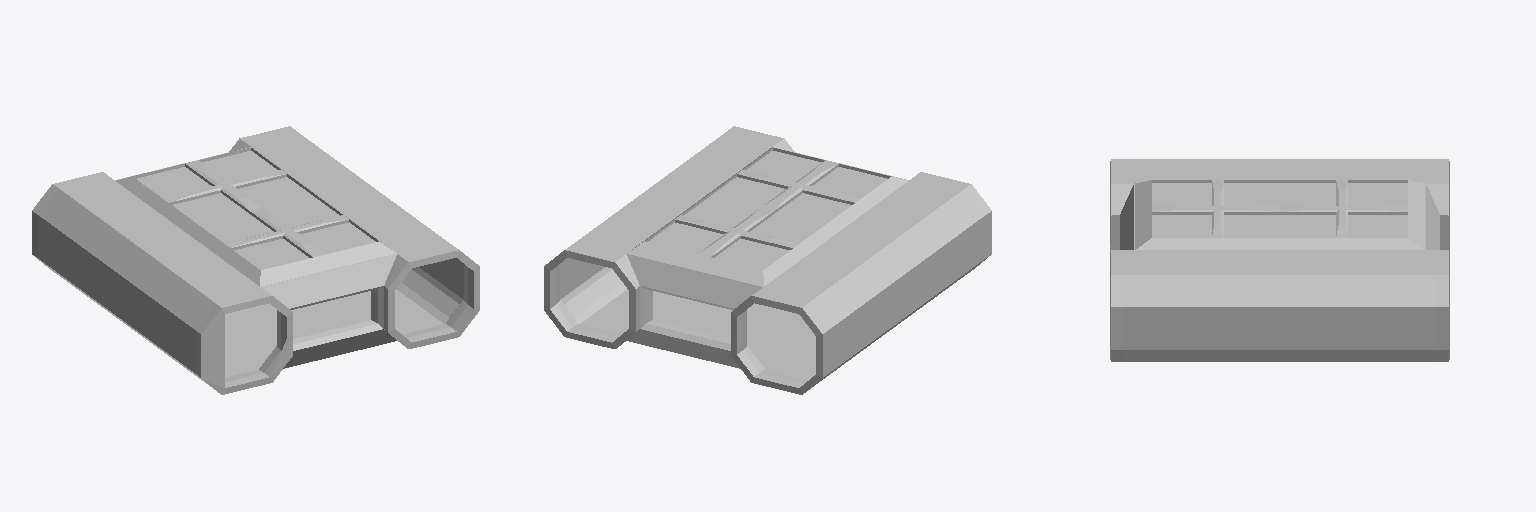
Rendered from large.obj.
3 renders of one model, left to right at view 1: azimuth 30°, elevation 25°; view 2: azimuth 150°, elevation 25°; view 3: azimuth 270°, elevation 25°, orthographic.
Parts seen in each view (by area): view 1: coridoor.002_Cube.002; view 2: coridoor.002_Cube.002; view 3: coridoor.002_Cube.002.
Boxes of the visible parts, <box> form: coridoor.002_Cube.002: <box>32,126,479,394</box>; coridoor.002_Cube.002: <box>544,126,991,394</box>; coridoor.002_Cube.002: <box>1110,159,1449,361</box>.
Size of the model in its own units: 7.03 by 2.32 by 7.41.